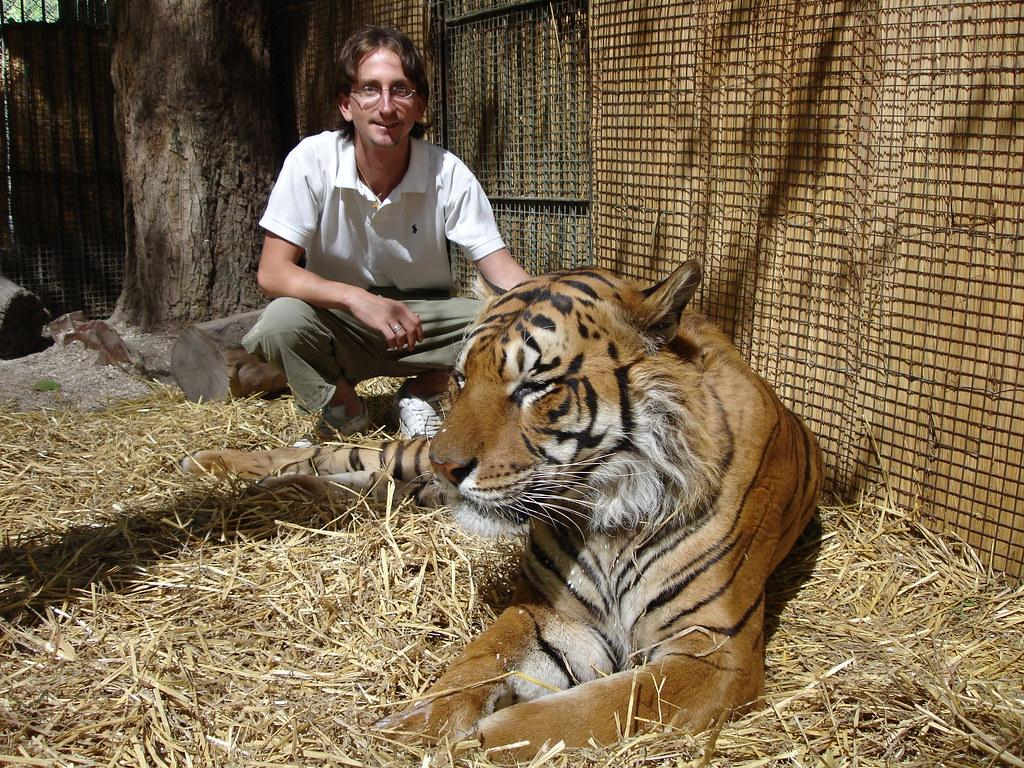tiger: (180, 258, 827, 765)
